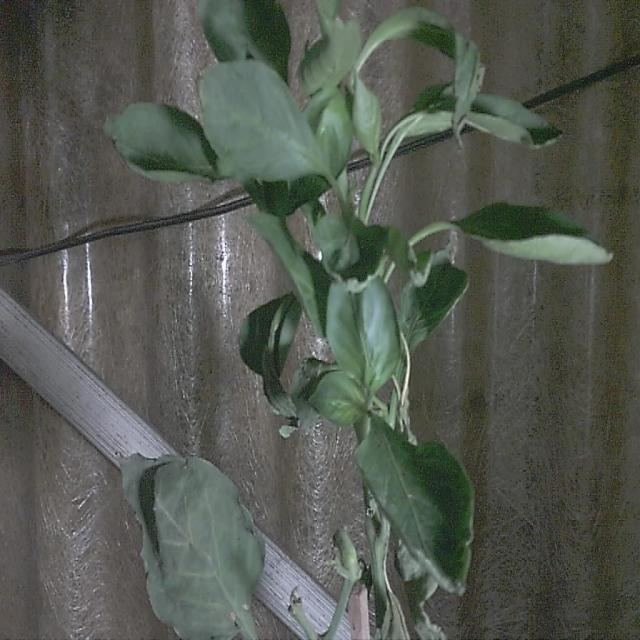Leaf: (116, 450, 265, 640), (352, 415, 473, 598), (198, 58, 319, 181), (453, 198, 613, 268), (99, 98, 221, 184)
